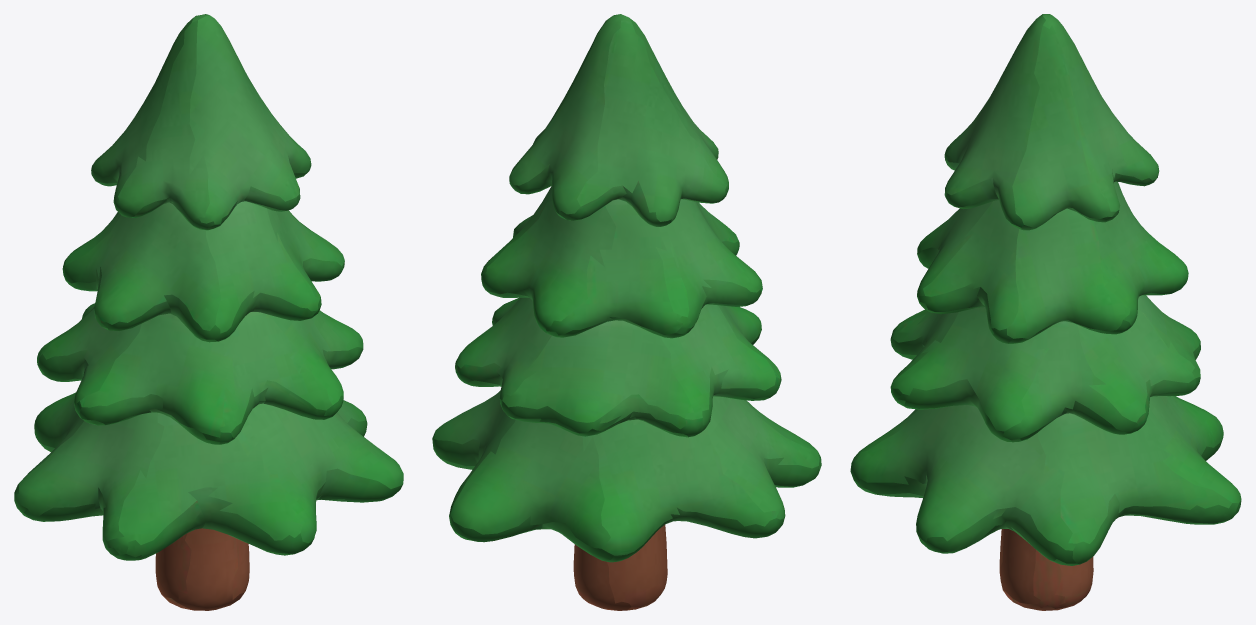
File: a-pine-tree-ce1c09.glb
3 views of the same model, side by side, from view 1: azimuth 30°, elevation 25°; view 2: azimuth 150°, elevation 25°; view 3: azimuth 270°, elevation 25° (orthographic).
Parts seen in each view (by area): view 1: geometry_0; view 2: geometry_0; view 3: geometry_0.
Boxes of the visible parts, <box> form: geometry_0: <box>14,14,403,610</box>; geometry_0: <box>432,14,821,610</box>; geometry_0: <box>850,14,1241,610</box>.
Bounding box in the file's own units: 0.6175 × 1 × 0.6052.
1 material, 1 textured.
